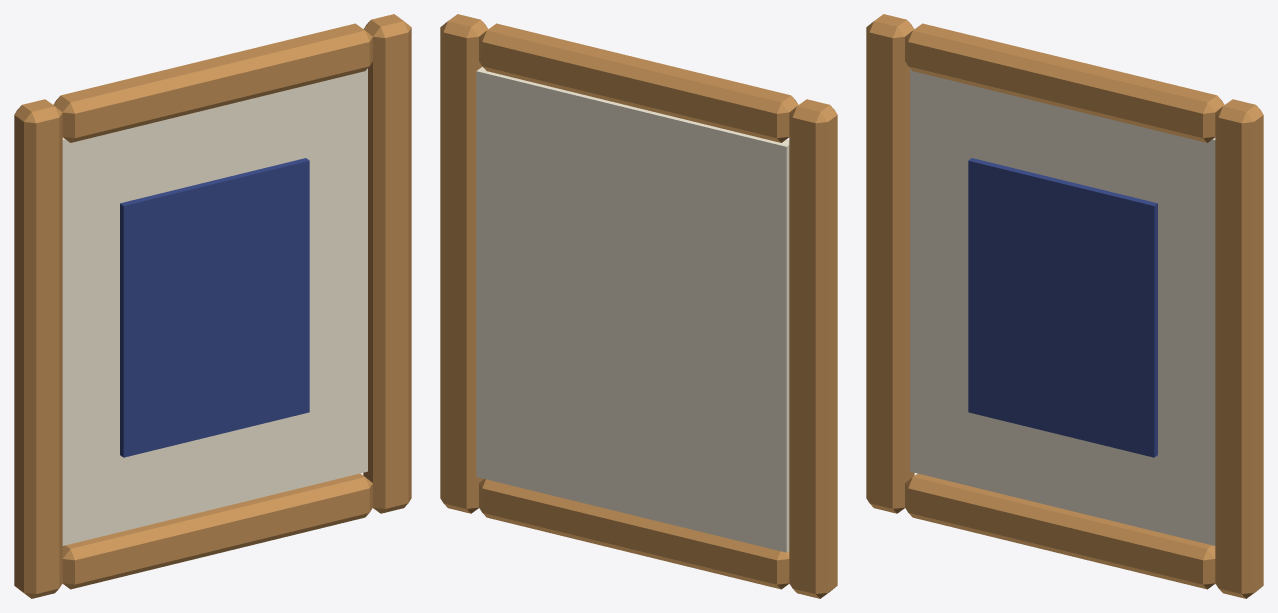
The model's file is poster_frame_matted.glb.
3 renders of one model, left to right at view 1: azimuth 30°, elevation 25°; view 2: azimuth 150°, elevation 25°; view 3: azimuth 330°, elevation 25°, orthographic.
Visible parts, largest first — view 1: poster_frame_matted; view 2: poster_frame_matted; view 3: poster_frame_matted.
Boxes of the visible parts, box(x1,y1,x2,y2) form: poster_frame_matted: box(14, 14, 411, 598); poster_frame_matted: box(440, 14, 837, 598); poster_frame_matted: box(866, 14, 1263, 598).
Bounding box in the file's own units: 0.6 × 0.72 × 0.05.
